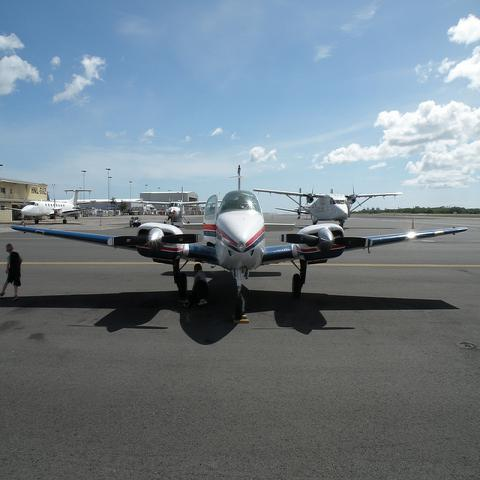car: (130, 216, 141, 227)
